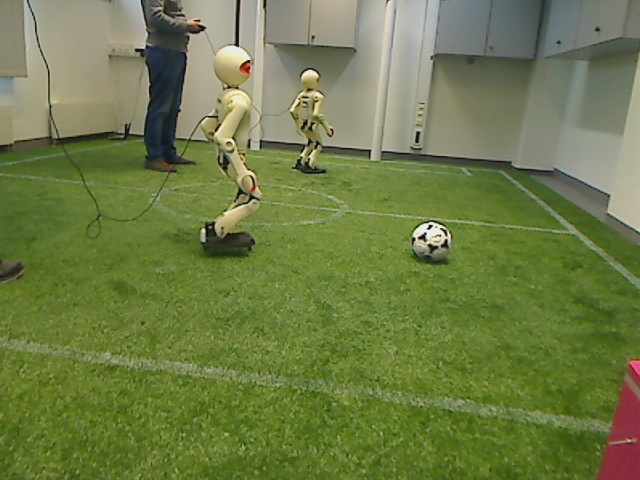ball: (406, 217, 456, 268)
robot: (193, 42, 265, 259), (288, 69, 336, 174)
